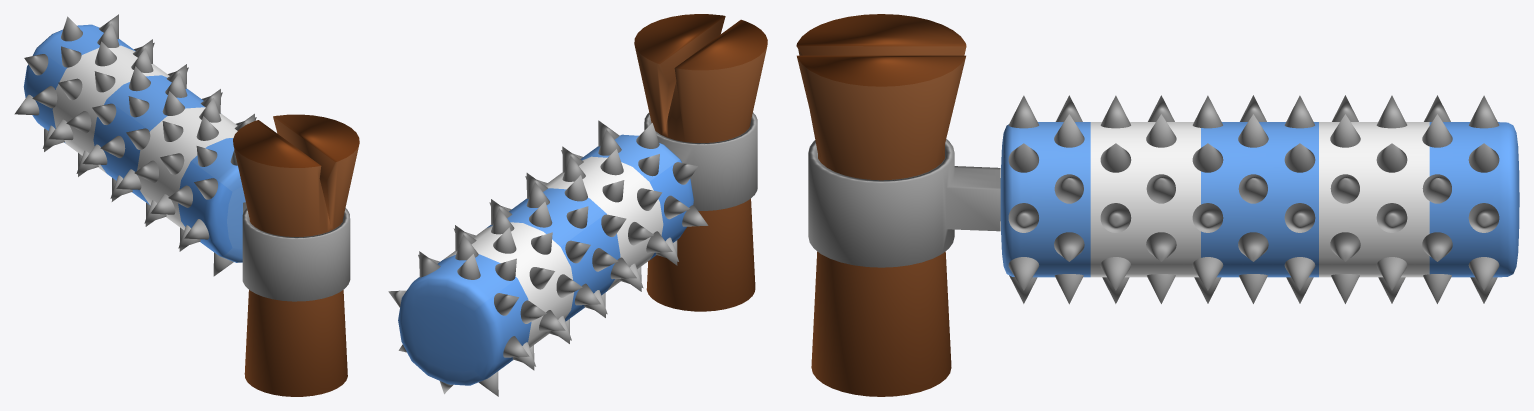
Rendered from trap_trapcirclespikeblue.glb.
The picture shows the model from 3 angles, left to right: view 1: azimuth 30°, elevation 25°; view 2: azimuth 150°, elevation 25°; view 3: azimuth 270°, elevation 25°; orthographic projection. The views are drawn at different scales.
Parts seen in each view (by area): view 1: Cylinder.003_visual, Cylinder.002_visual; view 2: Cylinder.003_visual, Cylinder.002_visual; view 3: Cylinder.003_visual, Cylinder.002_visual.
Part boxes in pixels (box(x1,y1,x2,y2)): Cylinder.003_visual: box(14, 14, 350, 301); Cylinder.002_visual: box(233, 114, 359, 396); Cylinder.003_visual: box(388, 112, 757, 396); Cylinder.002_visual: box(634, 14, 767, 311); Cylinder.003_visual: box(808, 95, 1519, 304); Cylinder.002_visual: box(796, 14, 966, 396).
Size of what is drawn, in the model's own units: 0.4944 by 0.8222 by 1.7.
Materials: 1 (1 with a texture image).
